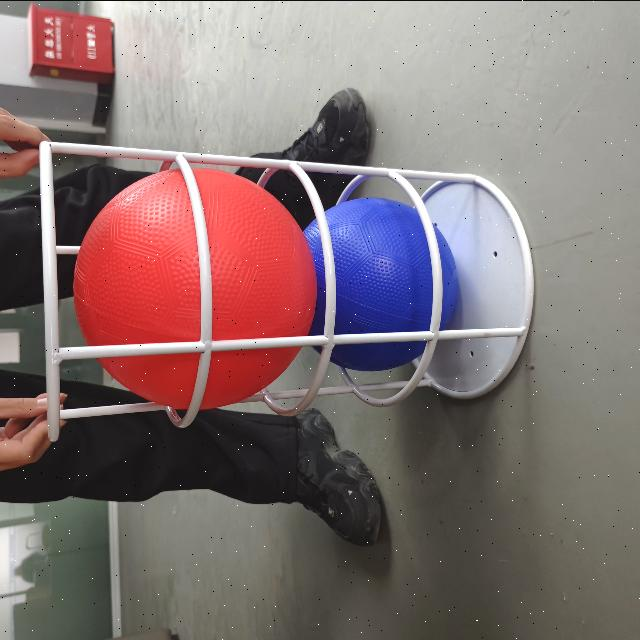B: (297, 200, 463, 370)
R: (75, 170, 315, 410)
S: (42, 138, 540, 438)
